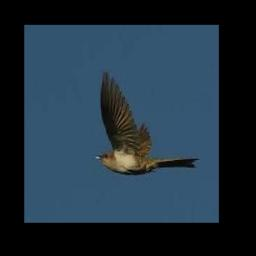Cuckoo: (95, 70, 200, 174)
